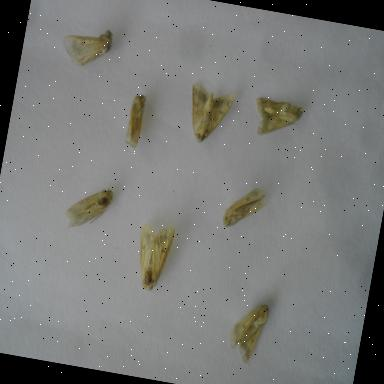abw: (177, 76, 241, 152), (127, 214, 181, 297), (222, 295, 273, 371), (57, 18, 118, 76), (60, 180, 118, 240), (250, 89, 308, 146), (219, 178, 272, 237), (116, 87, 154, 155)
